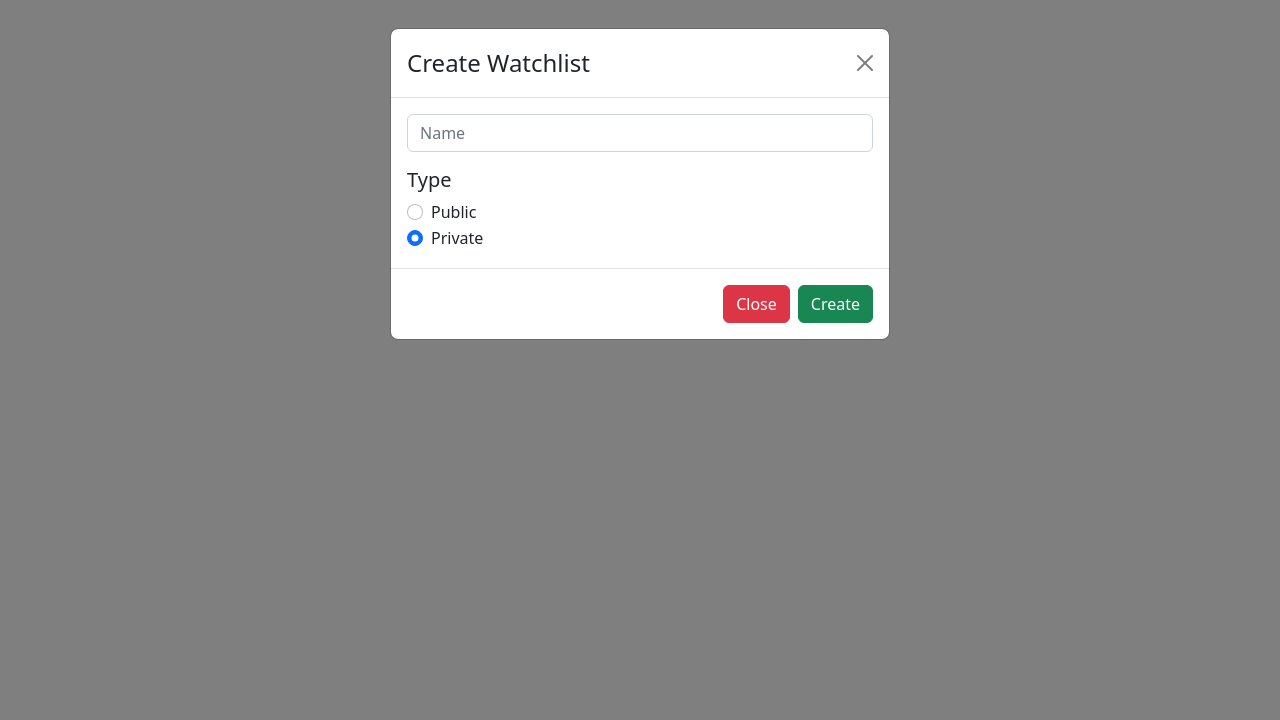
Test case: Create Watchlist Modal › displays error message if form is submitted with empty inputs
Step 1. Click the button "Create" → (835, 304), box 798,285 -> 873,323
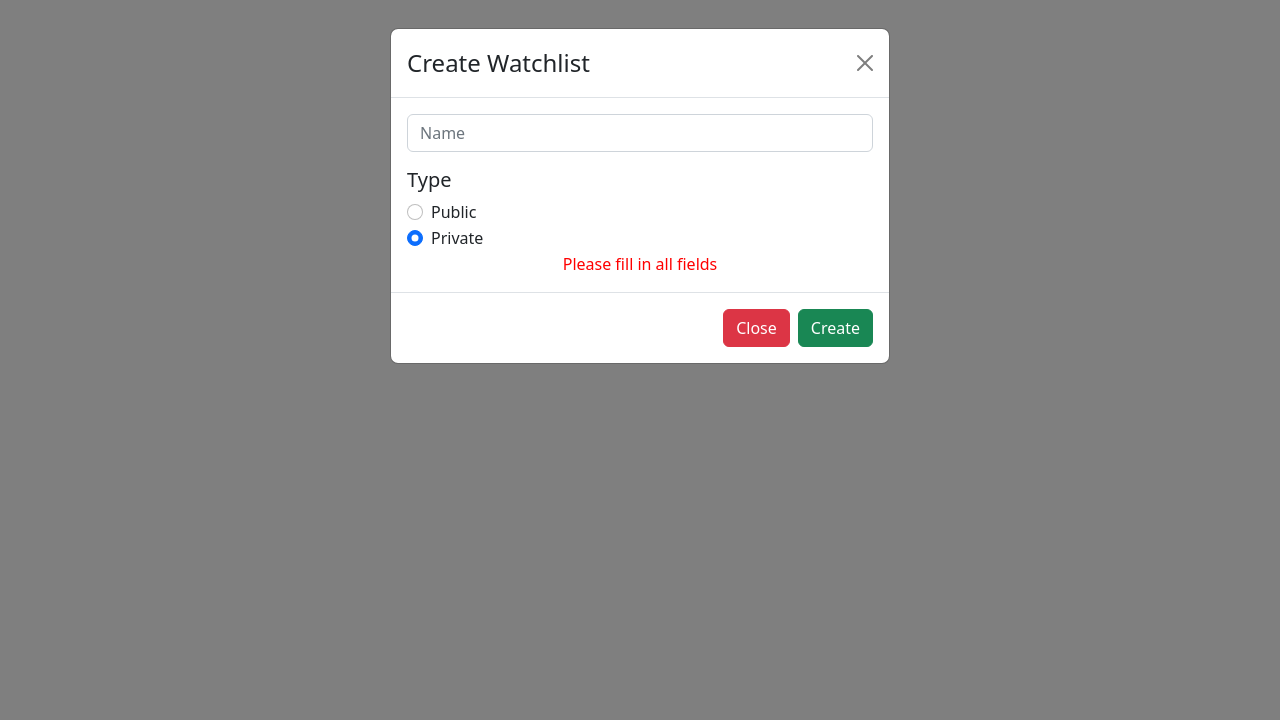
Check: the text "Please fill in all fields" is shown, box 563,253 -> 717,275
